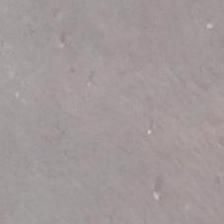Non_Crack: (23, 11, 213, 201)
